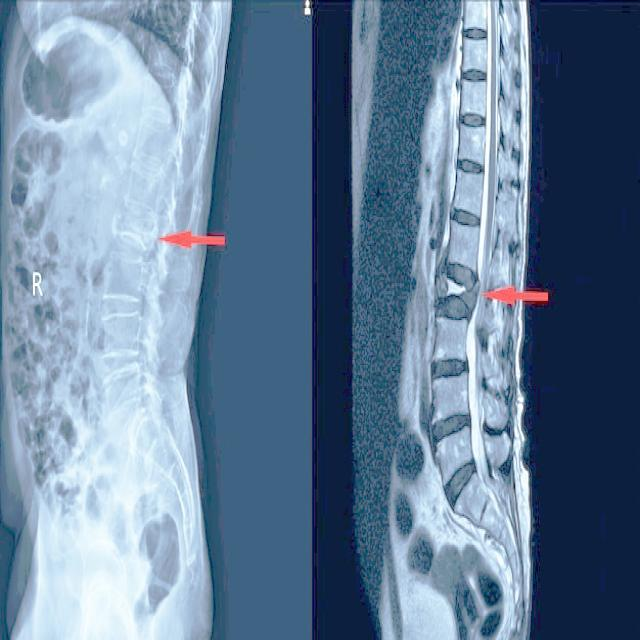Compression-Crush Fracutre: (113, 210, 181, 256), (429, 264, 485, 316)
